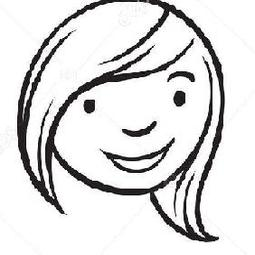eyebrow: (163, 69, 196, 82)
nose: (114, 116, 160, 139)
open_mouth: (97, 140, 175, 176)
small_eye: (171, 90, 191, 112), (81, 95, 99, 118)
